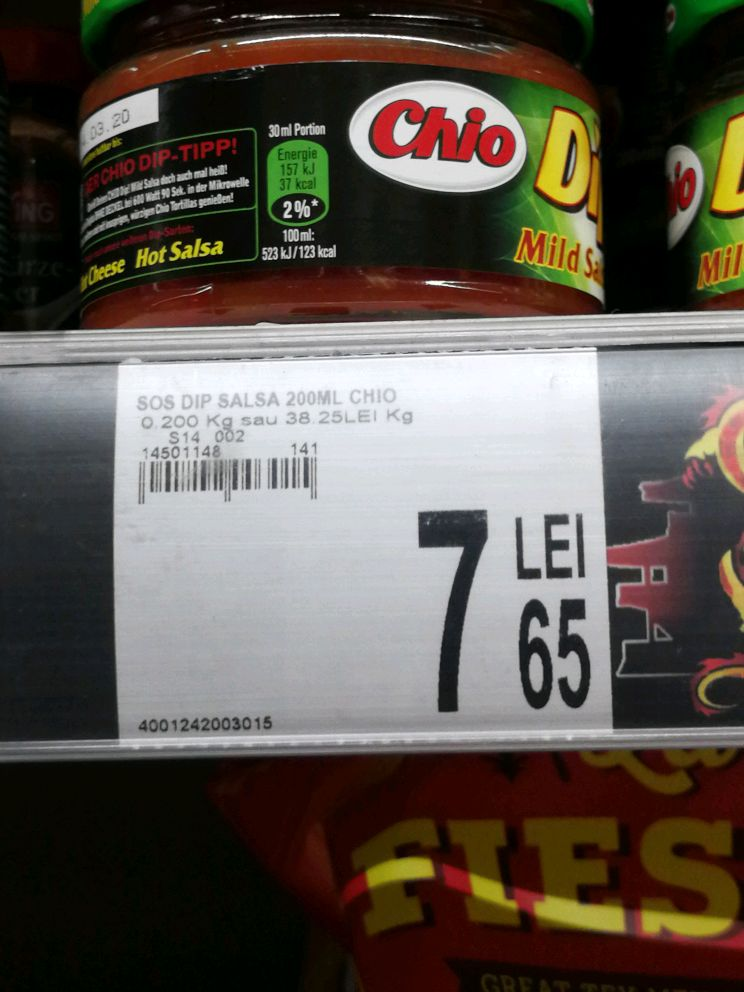price_bani: (511, 590, 603, 721)
price_lei: (408, 498, 494, 726)
price_tag: (84, 325, 635, 764)
product_id: (132, 703, 282, 744)
product_name: (118, 376, 405, 415)
